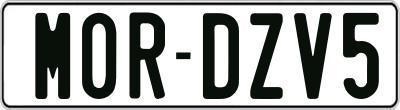0: (81, 12, 120, 98)
5: (340, 11, 380, 97)
D: (203, 11, 242, 99)
M: (35, 12, 71, 104)
R: (130, 11, 169, 99)
V: (292, 11, 330, 101)
Z: (249, 13, 283, 99)
